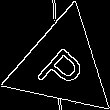P_NE: (32, 34, 92, 97)
